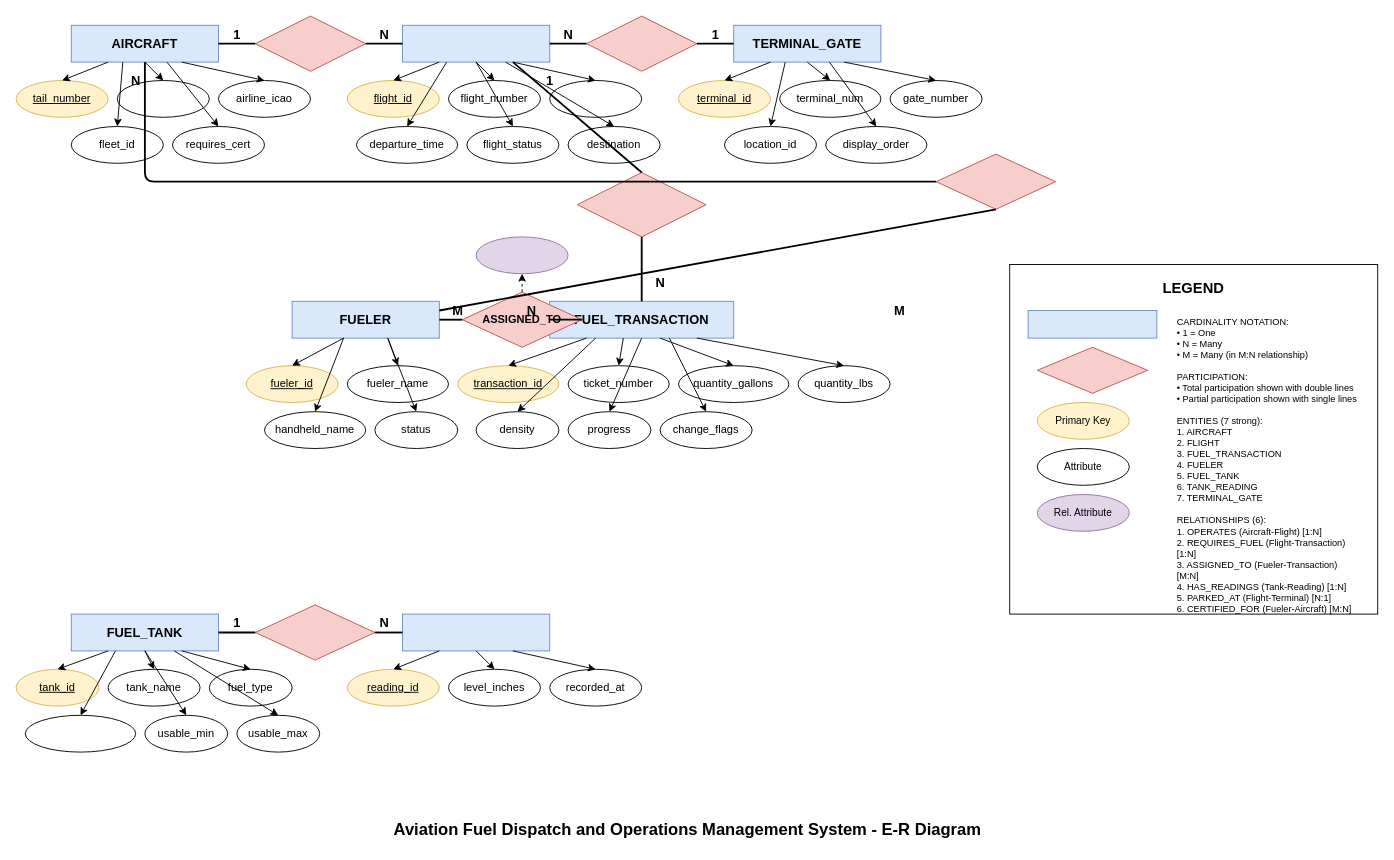
This 1394x860 diagram has some shape labels left out. The shapes that lost their labels are listed below. From the top down, each one's box as (x1, y1, x2, y2) in pixels, then its label:
(254, 15, 366, 71): OPERATES
(402, 24, 550, 62): FLIGHT
(586, 15, 697, 71): PARKED_AT
(116, 80, 209, 117): aircraft_type
(549, 80, 642, 117): arrival_time
(935, 153, 1056, 209): CERTIFIED_FOR
(576, 172, 706, 237): REQUIRES_FUEL
(475, 236, 568, 274): assigned_at
(1027, 310, 1157, 338): Strong Entity
(1036, 346, 1148, 393): Relationship
(254, 604, 375, 660): HAS_READINGS
(402, 613, 550, 651): TANK_READING
(24, 714, 136, 752): capacity_gallons
